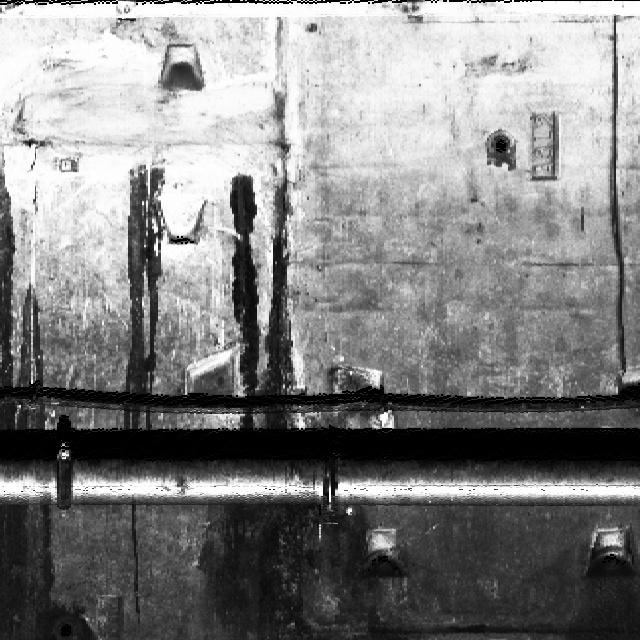leakage: (0, 140, 93, 639), (199, 480, 422, 639), (116, 140, 207, 432), (220, 125, 306, 429)
